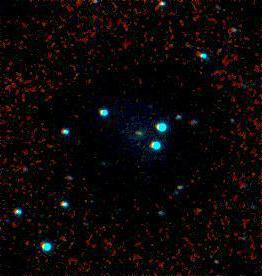star: (185, 195, 215, 225)
